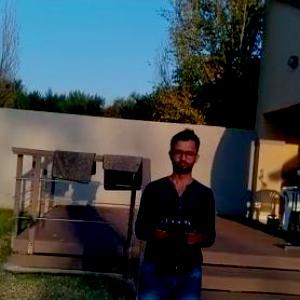follow: (129, 123, 220, 299)
